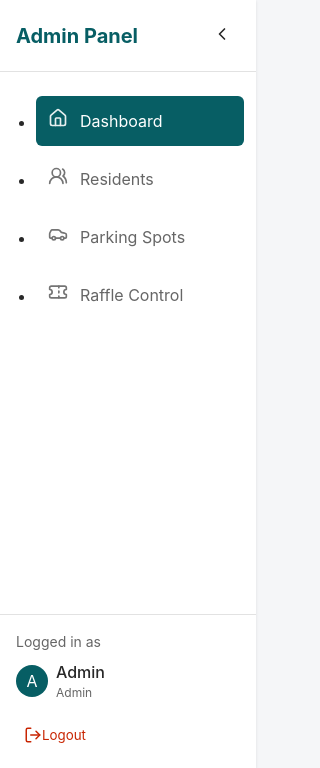
Sidebar › toggles sidebar collapse
Click the 1st button.
click(222, 36)  # box top-left (204, 16), bottom-right (240, 55)
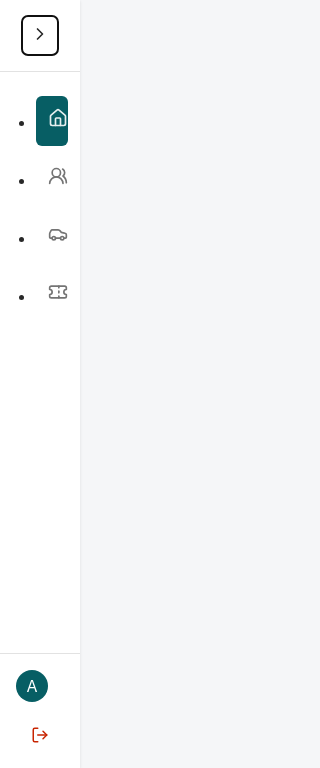
Check: the element with class "collapsed" is shown, box top-left (0, 0), bottom-right (80, 767)
